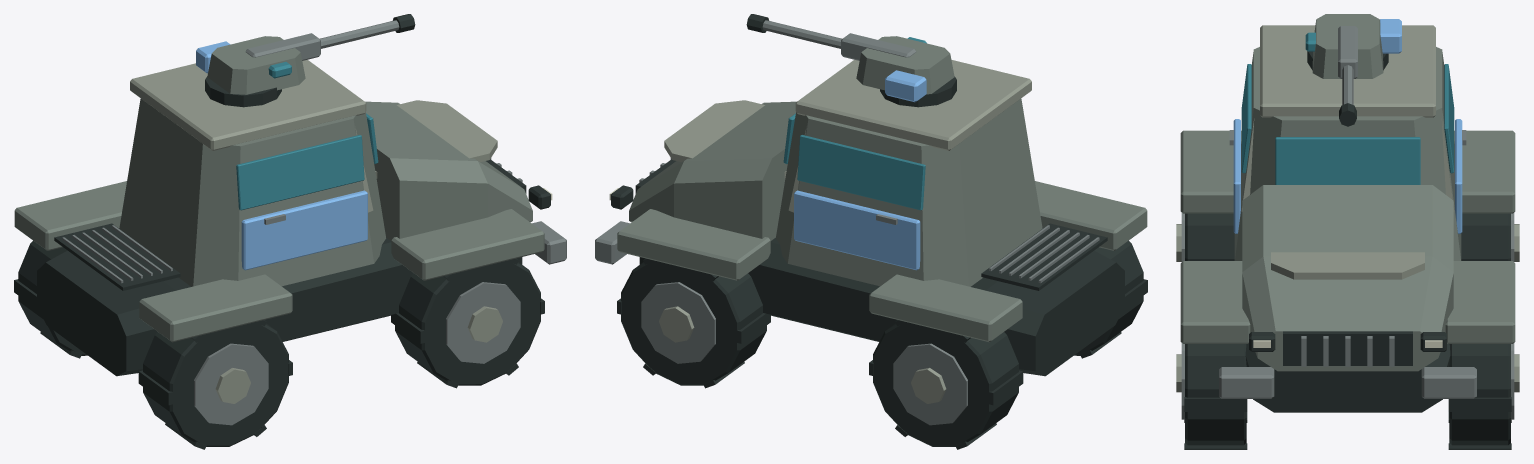
File: warden.glb
3 views of the same model, side by side, from view 1: azimuth 30°, elevation 25°; view 2: azimuth 150°, elevation 25°; view 3: azimuth 270°, elevation 25° (orthographic). The views are drawn at different scales.
Parts seen in each view (by area): view 1: Hull, Turret; view 2: Hull, Turret; view 3: Hull, Turret.
Part boxes in pixels (x1,y1,x2,y2): Hull: [14, 60, 566, 449]; Turret: [196, 14, 415, 107]; Hull: [595, 59, 1147, 449]; Turret: [746, 14, 956, 107]; Hull: [1176, 25, 1519, 449]; Turret: [1305, 14, 1401, 126].
Bounding box in the file's own units: 2.37 × 1.68 × 1.56.
